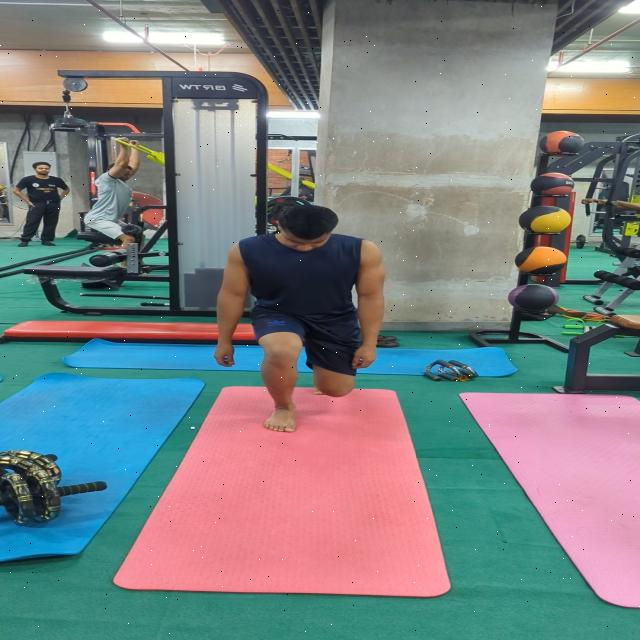Normal_Lunges: (213, 200, 392, 438)
